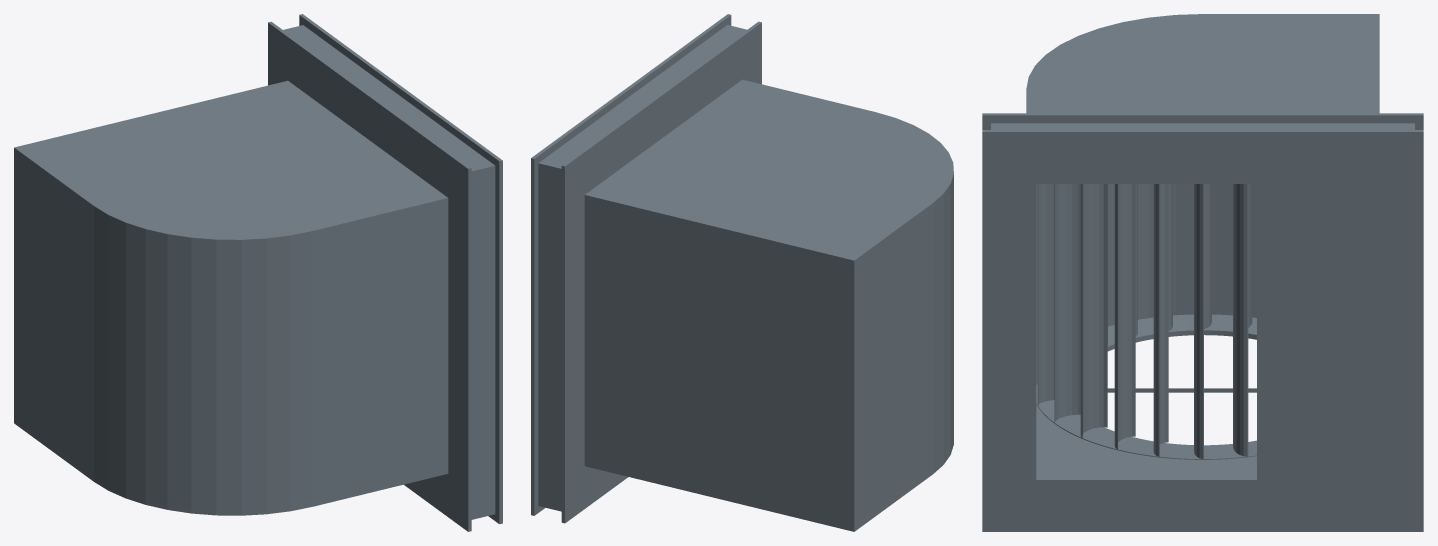
Rendered from FanHorizontal.glb.
3 renders of one model, left to right at view 1: azimuth 30°, elevation 25°; view 2: azimuth 150°, elevation 25°; view 3: azimuth 270°, elevation 25°, orthographic. The views are drawn at different scales.
Parts seen in each view (by area): view 1: child.005, child.001; view 2: child.005, child.001; view 3: child.001, child.005, child.004, child.002.
Part boxes in pixels (x1=…): child.005: x1=14, y1=80, x2=448, y2=515; child.001: x1=268, y1=14, x2=502, y2=531; child.005: x1=584, y1=79, x2=953, y2=531; child.001: x1=531, y1=14, x2=761, y2=523; child.001: x1=982, y1=113, x2=1423, y2=531; child.005: x1=1026, y1=14, x2=1379, y2=461; child.004: x1=1036, y1=184, x2=1252, y2=458; child.002: x1=1036, y1=314, x2=1256, y2=459.
Bounding box in the file's own units: 890 × 1000 × 1000.
